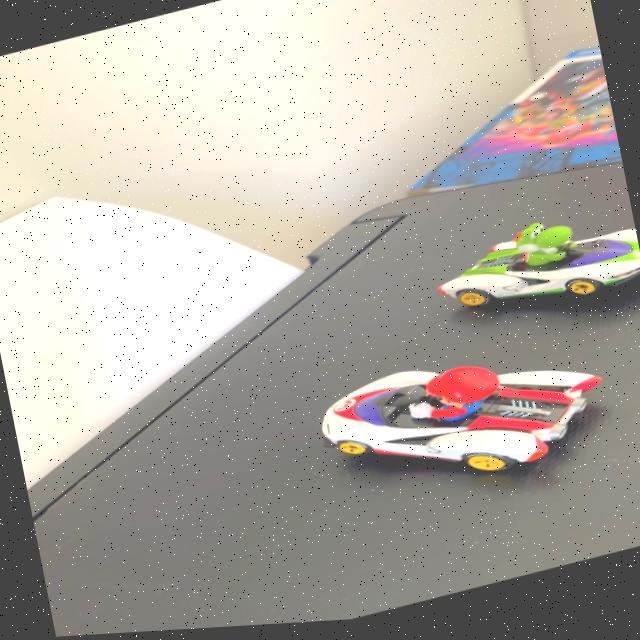mario: (278, 322, 638, 537)
yoshi: (422, 200, 640, 342)
